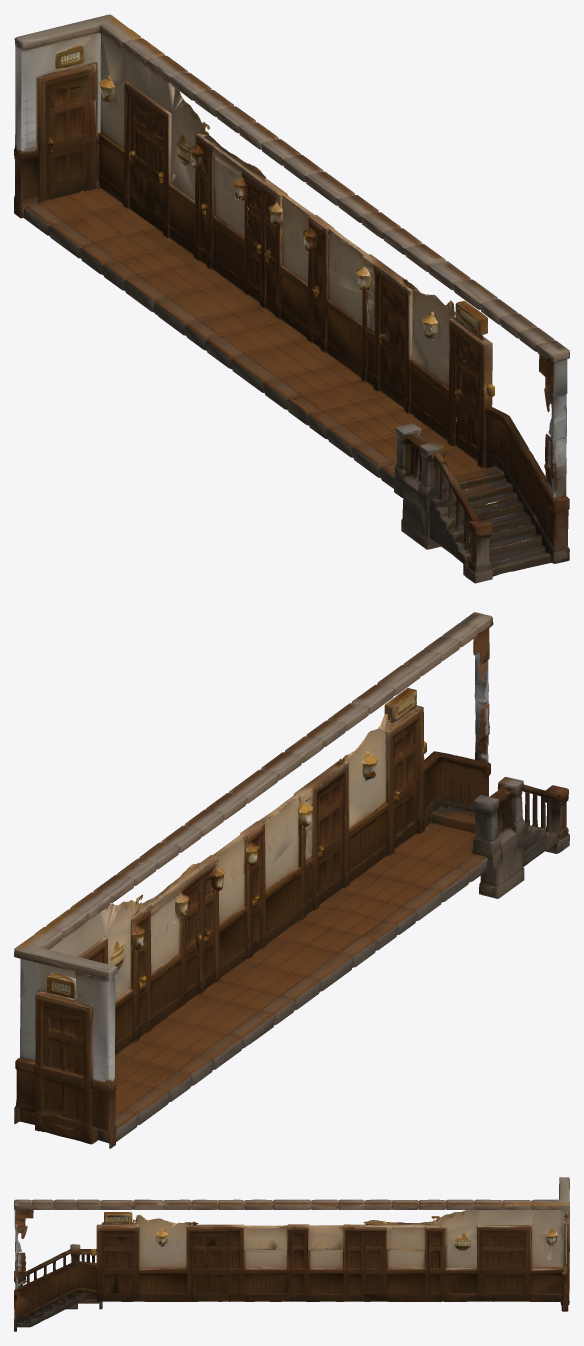
Rendered from env-hotel-corridor-shell.glb.
3 renders of one model, top to bottom at view 1: azimuth 30°, elevation 25°; view 2: azimuth 150°, elevation 25°; view 3: azimuth 270°, elevation 25°, orthographic. The views are drawn at different scales.
Visible parts, largest first — view 1: env-hotel-corridor-shell; view 2: env-hotel-corridor-shell; view 3: env-hotel-corridor-shell.
Part boxes in pixels (x1=…): env-hotel-corridor-shell: x1=14, y1=14, x2=569, y2=583; env-hotel-corridor-shell: x1=14, y1=612, x2=569, y2=1148; env-hotel-corridor-shell: x1=14, y1=1177, x2=569, y2=1331.
Bounding box in the file's own units: 1.57 × 3.2 × 12.67.
Materials: 1 (1 with a texture image).
